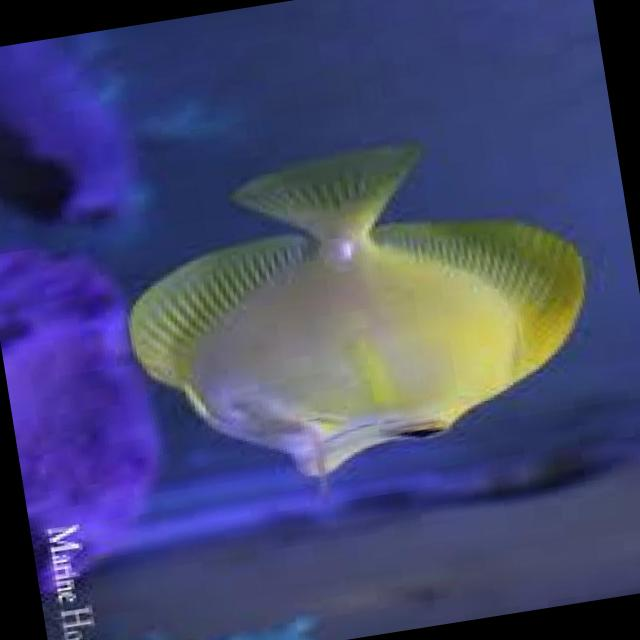YellowTang: (90, 93, 634, 510)
